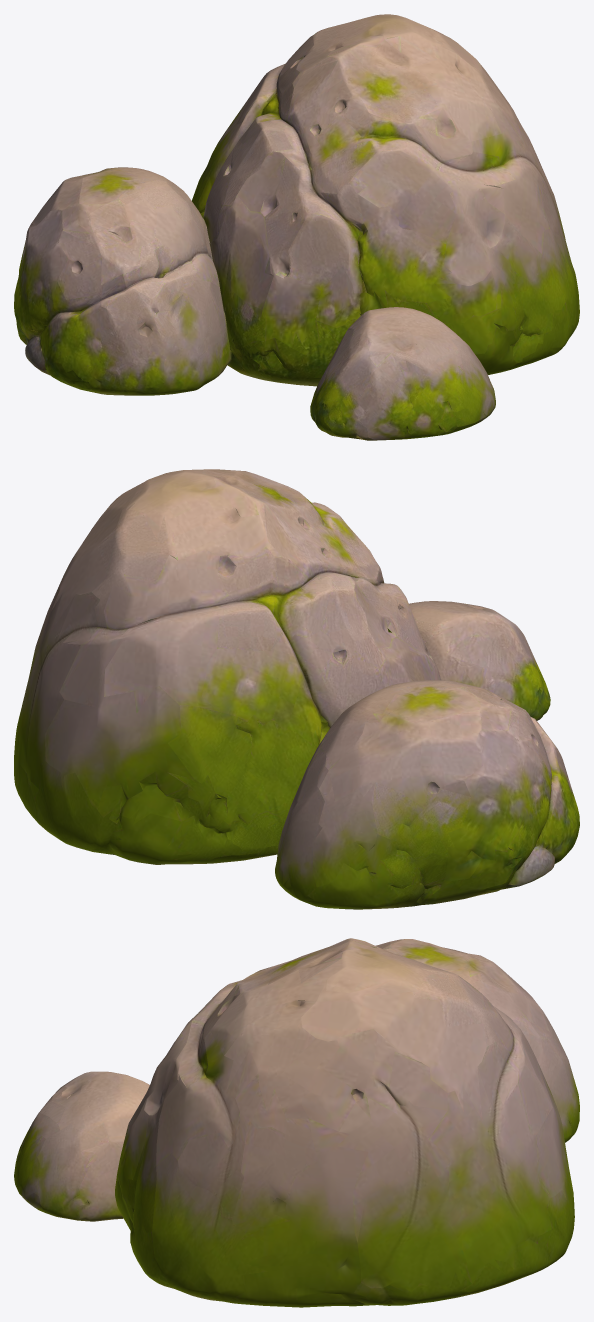
File: mosslit-stones.glb
3 views of the same model, one above another, from view 1: azimuth 30°, elevation 25°; view 2: azimuth 150°, elevation 25°; view 3: azimuth 270°, elevation 25° (orthographic). The views are drawn at different scales.
Parts seen in each view (by area): view 1: output_unwrapped; view 2: output_unwrapped; view 3: output_unwrapped.
Boxes of the visible parts, x1=… form: output_unwrapped: x1=14, y1=14, x2=579, y2=440; output_unwrapped: x1=14, y1=469, x2=579, y2=909; output_unwrapped: x1=14, y1=938, x2=579, y2=1307.
Size of the model in its own units: 1.9 by 1.08 by 1.85.
1 material, 1 textured.
